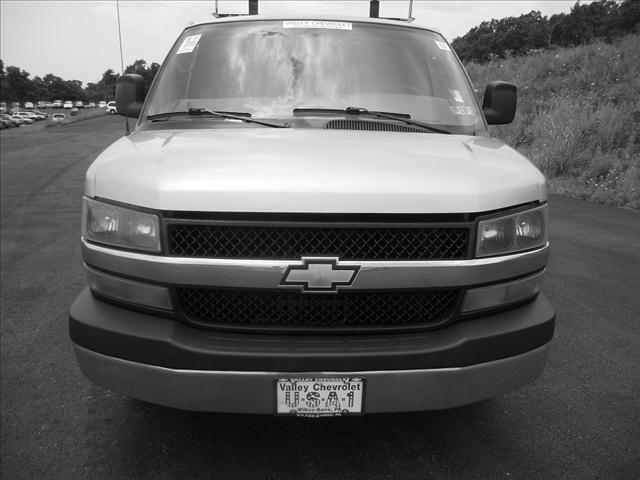car: (68, 1, 560, 419)
